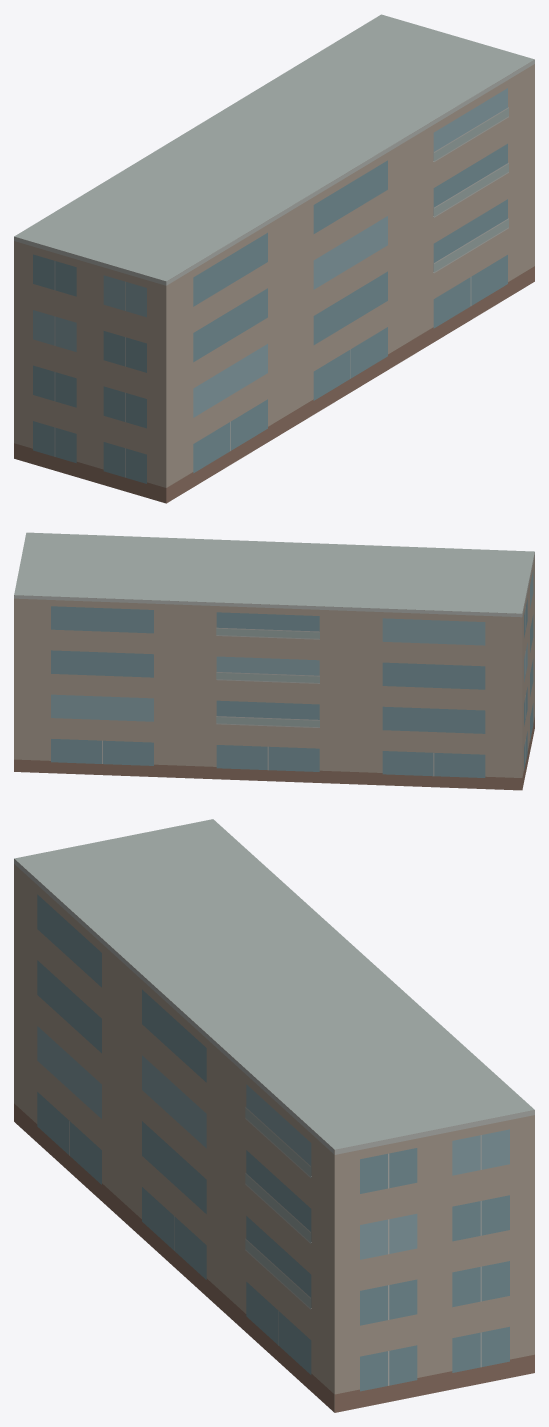
File: survey-upis-32725205.glb
3 views of the same model, one above another, from view 1: azimuth 30°, elevation 25°; view 2: azimuth 150°, elevation 25°; view 3: azimuth 270°, elevation 25° (orthographic). The views are drawn at different scales.
Visible parts, largest first — view 1: survey-upis-32725205.tmp; view 2: survey-upis-32725205.tmp; view 3: survey-upis-32725205.tmp.
Boxes of the visible parts, x1=… form: survey-upis-32725205.tmp: x1=14, y1=14, x2=534, y2=503; survey-upis-32725205.tmp: x1=14, y1=532, x2=534, y2=790; survey-upis-32725205.tmp: x1=14, y1=819, x2=534, y2=1412.
Bounding box in the file's own units: 32.89 × 12.2 × 21.89.
